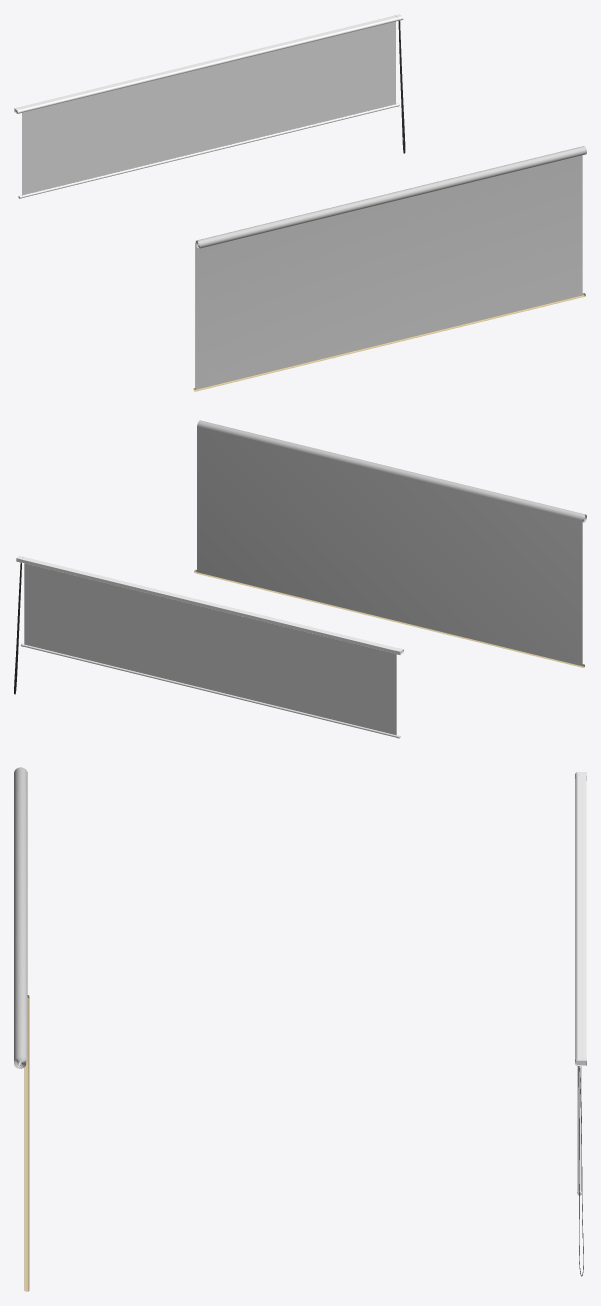
Rendered from _blinds.gltf.
3 renders of one model, top to bottom at view 1: azimuth 30°, elevation 25°; view 2: azimuth 150°, elevation 25°; view 3: azimuth 270°, elevation 25°, orthographic. The views are drawn at different scales.
Visible parts, largest first — view 1: Spiral.004, Cylinder, Plane; view 2: Spiral.004, Cylinder, Plane; view 3: Cylinder, Spiral.004, Plane.
Boxes of the visible parts, <box> form: Spiral.004: <box>195,146,586,389</box>; Cylinder: <box>14,14,405,198</box>; Plane: <box>193,293,585,391</box>; Spiral.004: <box>197,420,586,665</box>; Cylinder: <box>14,555,403,738</box>; Plane: <box>194,570,584,667</box>; Cylinder: <box>575,772,586,1276</box>; Spiral.004: <box>14,767,27,1068</box>; Plane: <box>24,995,29,1291</box>.
Size of the model in its own units: 567 by 210 by 468.
